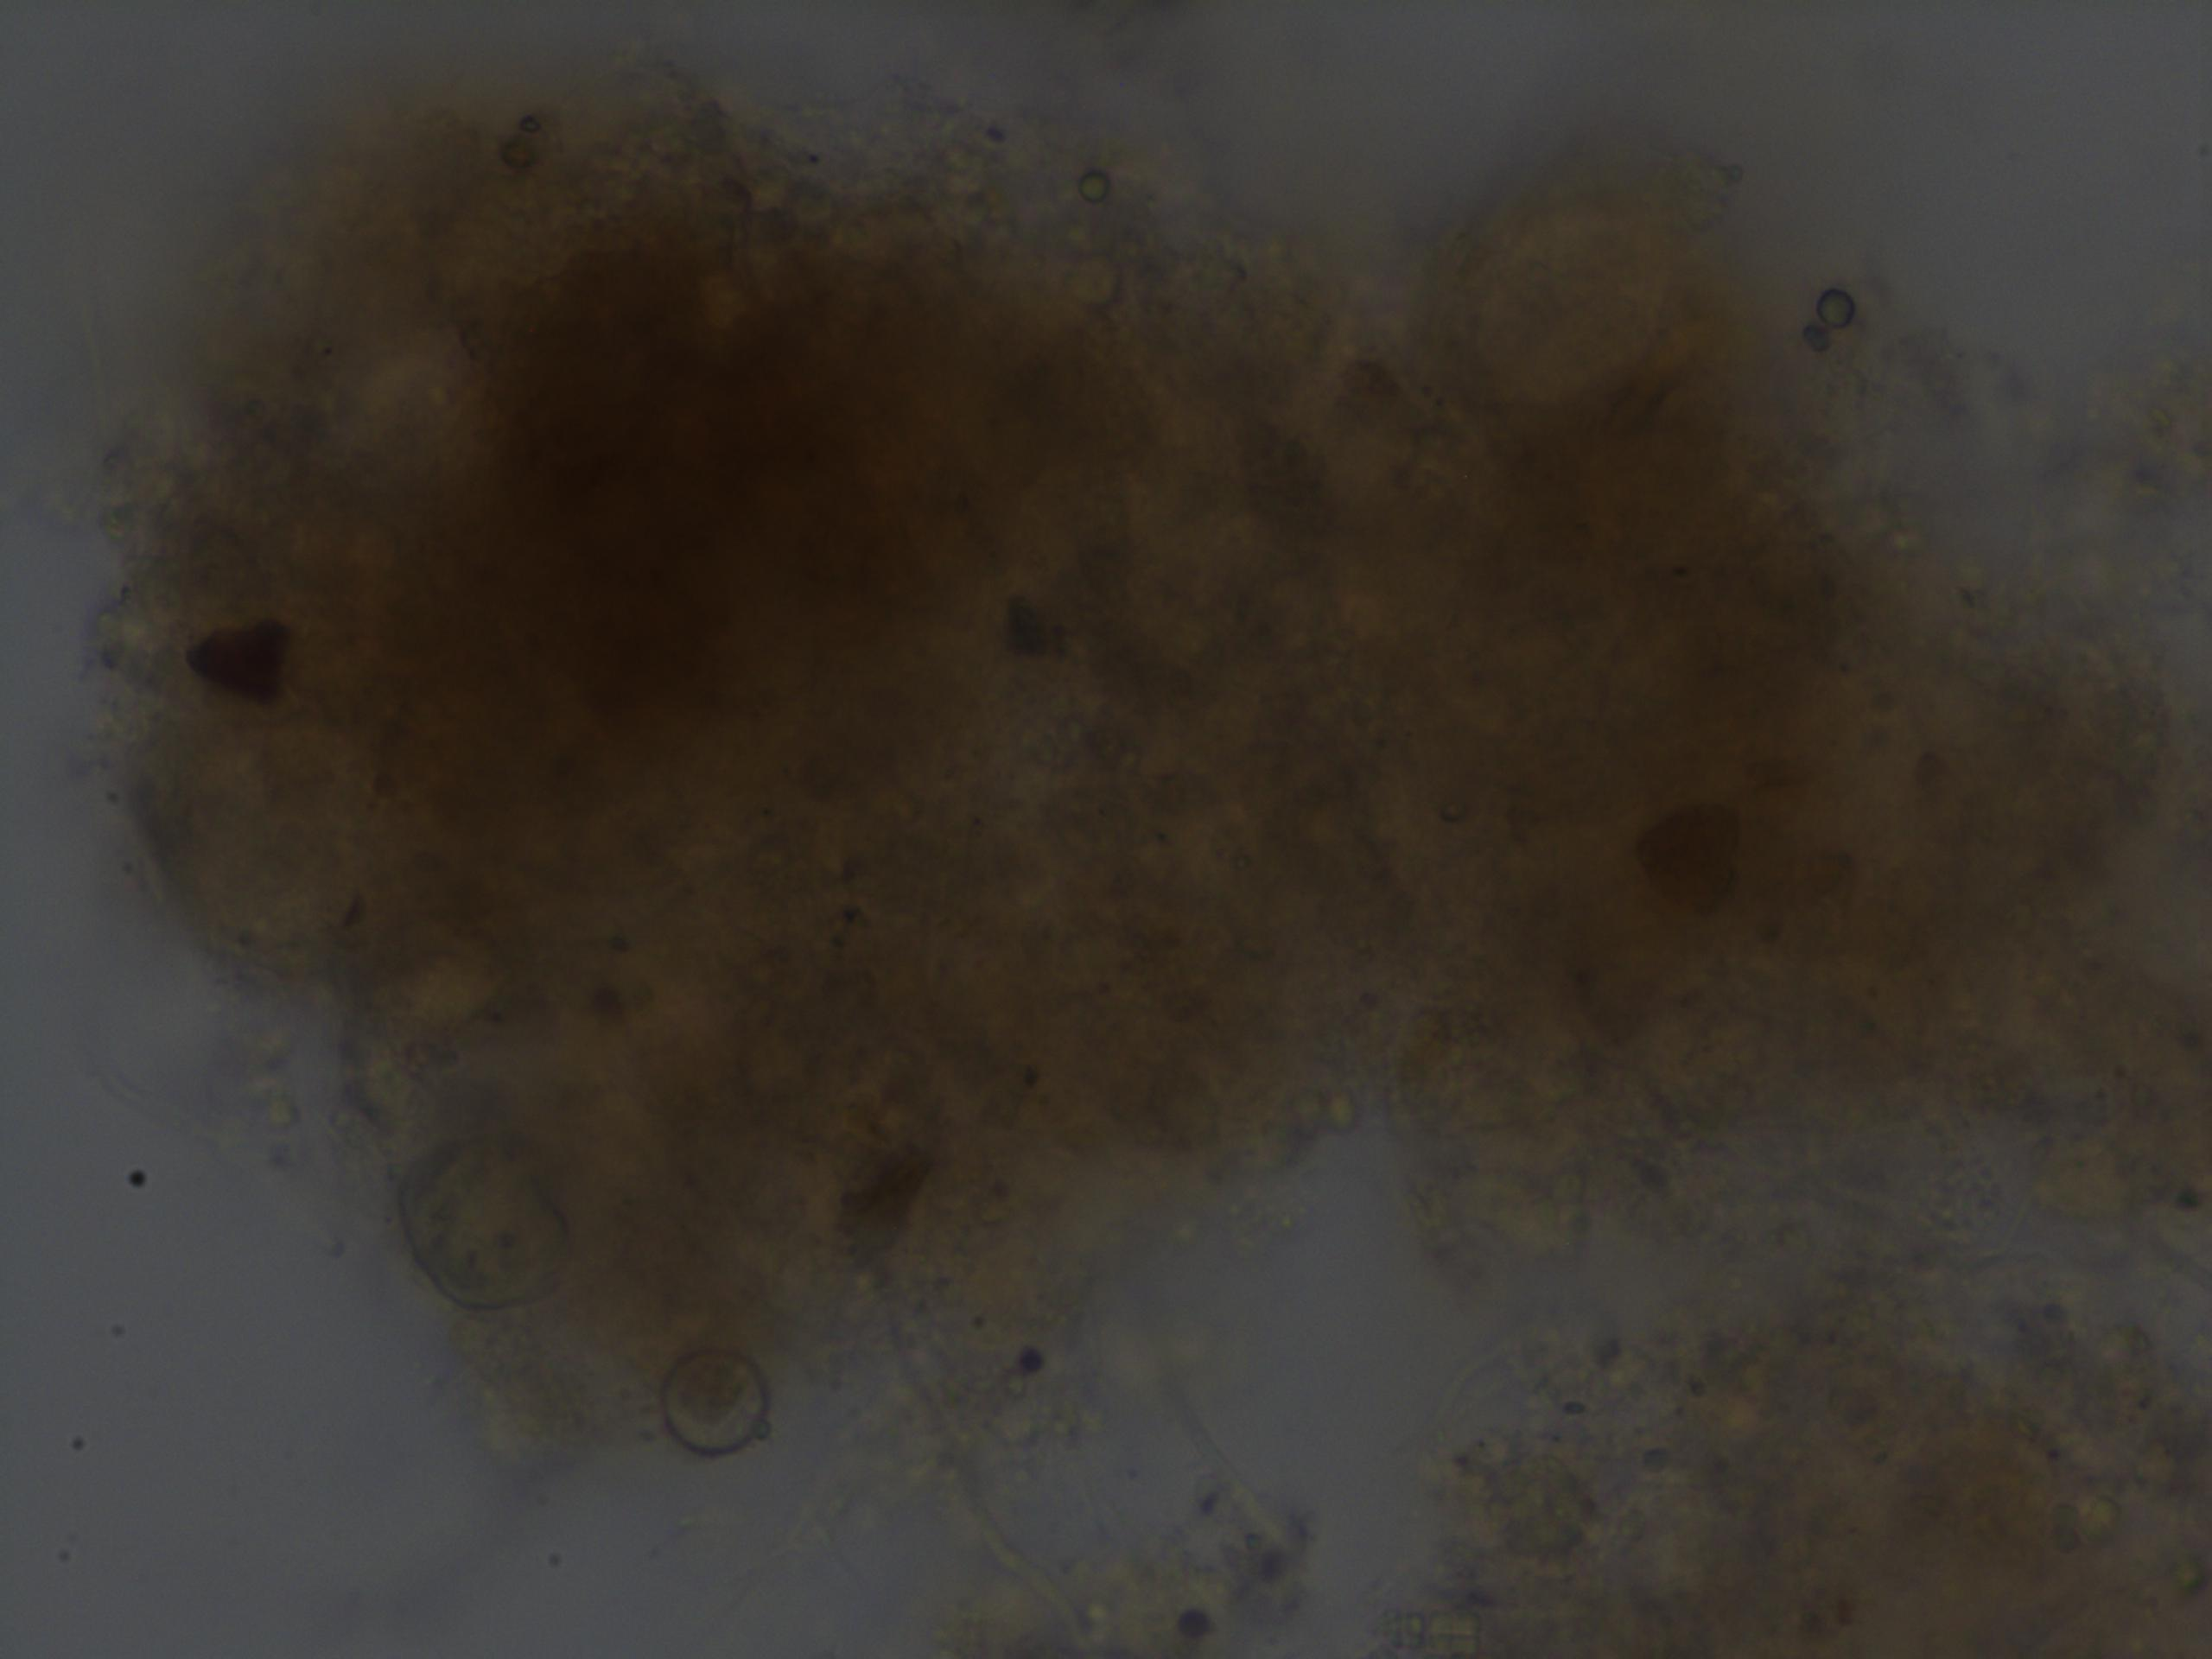spherical_floc: (85, 70, 2212, 1453)
